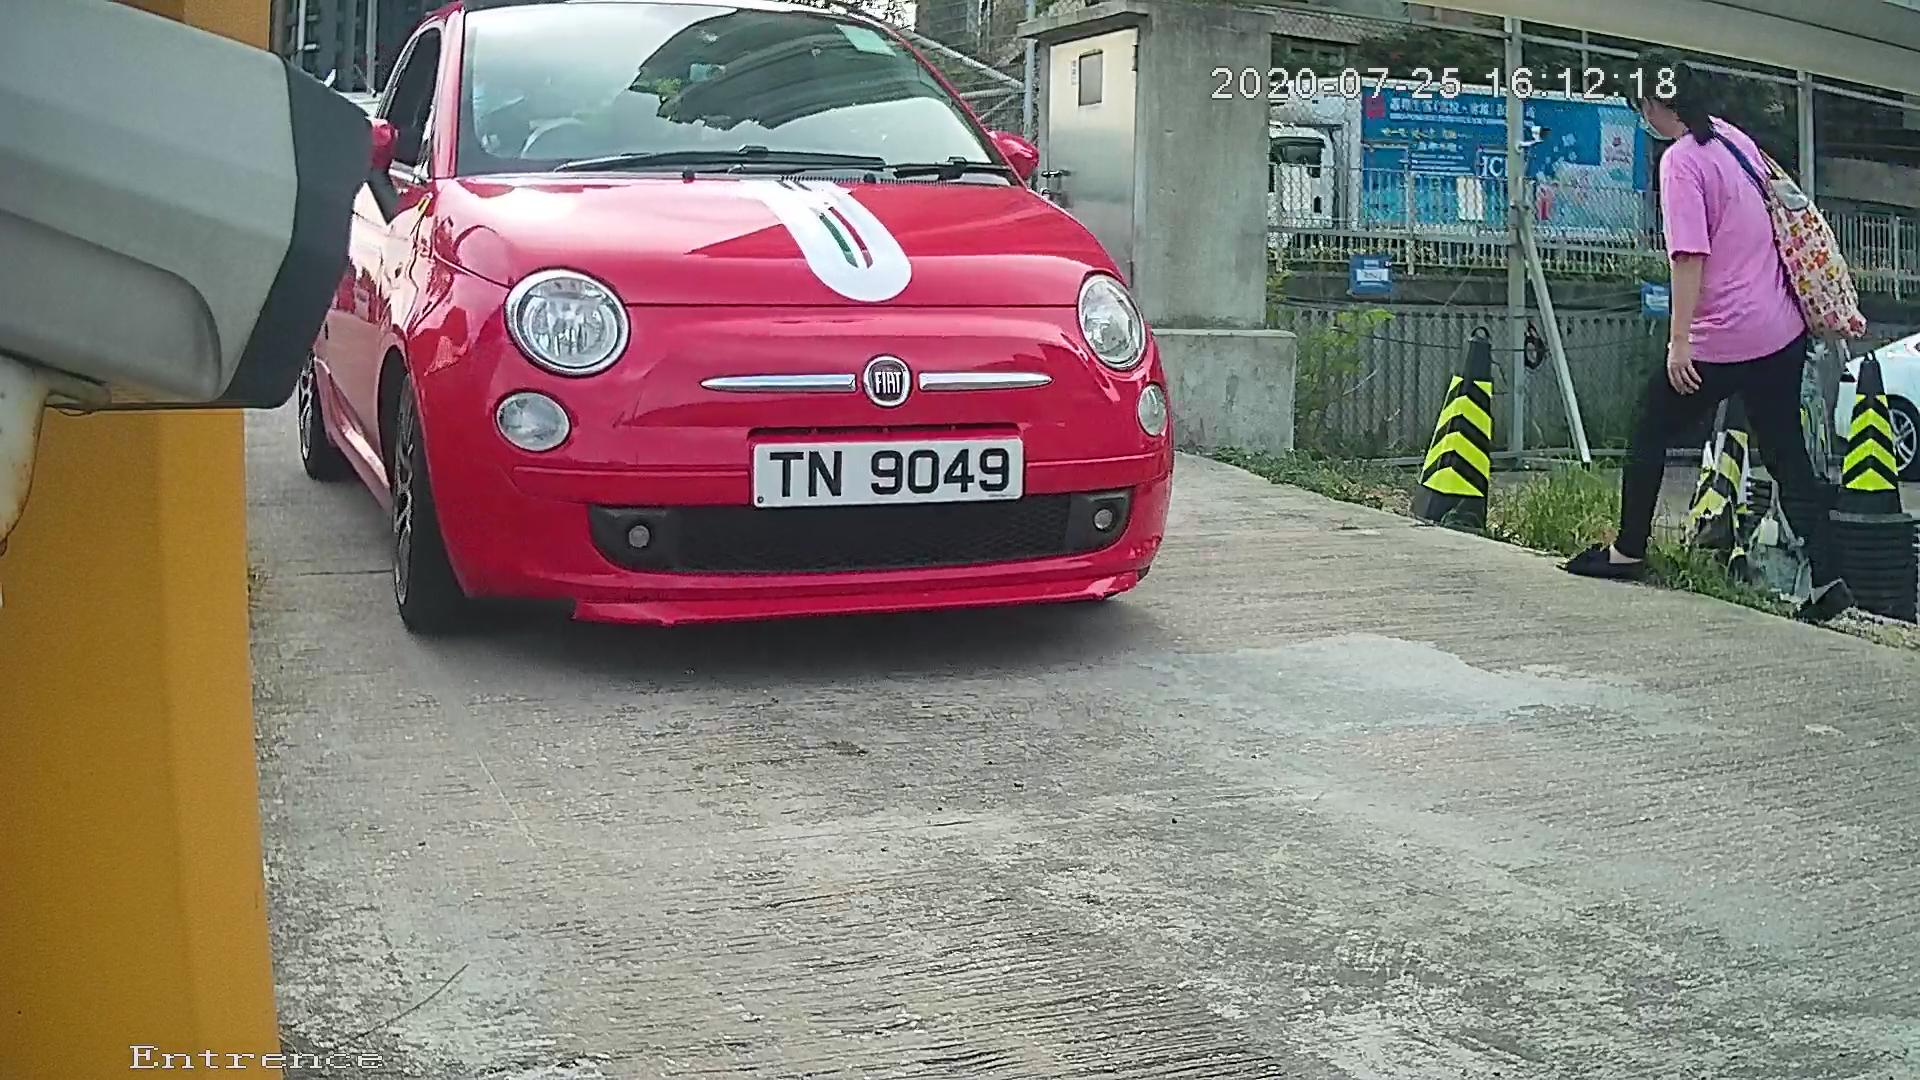License Plate: (738, 434, 1038, 516)
